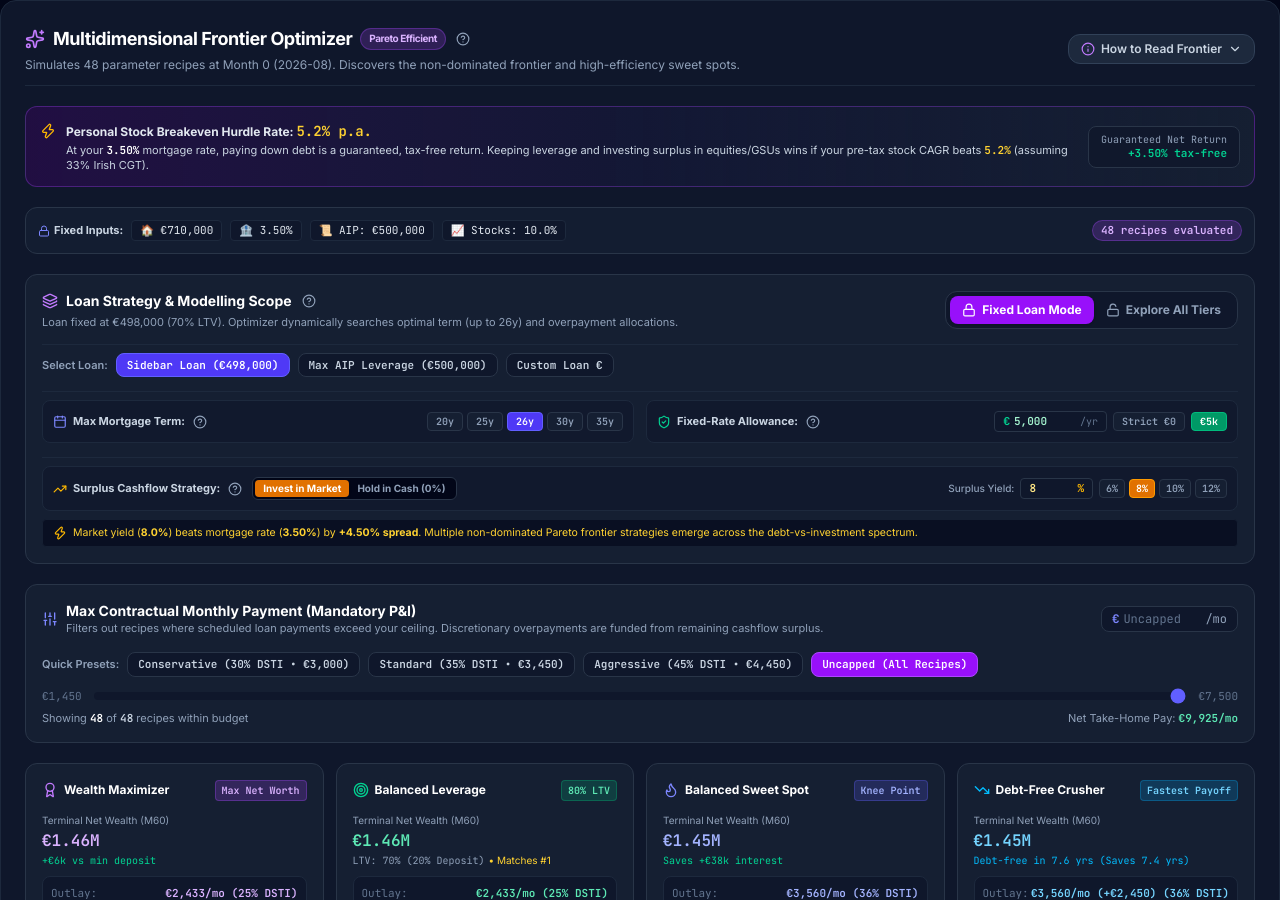
it: FrontierOptimizerCard Component & Custom Loan Reproduction › switches between presets dynamically without state corruption
The image size is (1280, 900).
Click the button "Max AIP Leverage (€500,000)" at (398, 365), box [298, 353, 498, 377]
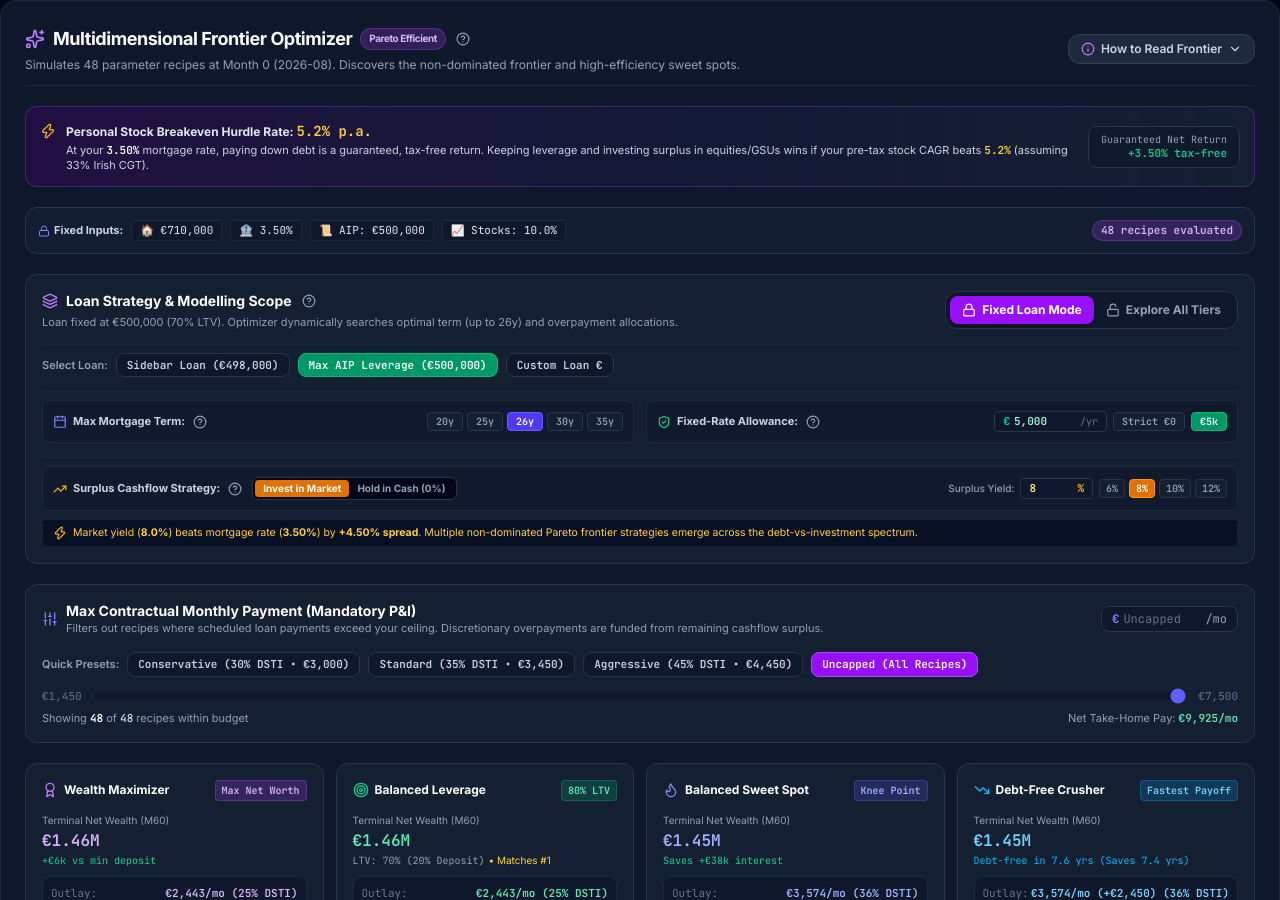
Result: the text "Loan fixed at €500,000 (70% LTV)" is shown at [42, 315, 678, 329]
Click the button "Sidebar Loan (€498,000)" at (203, 365), box [116, 353, 290, 377]
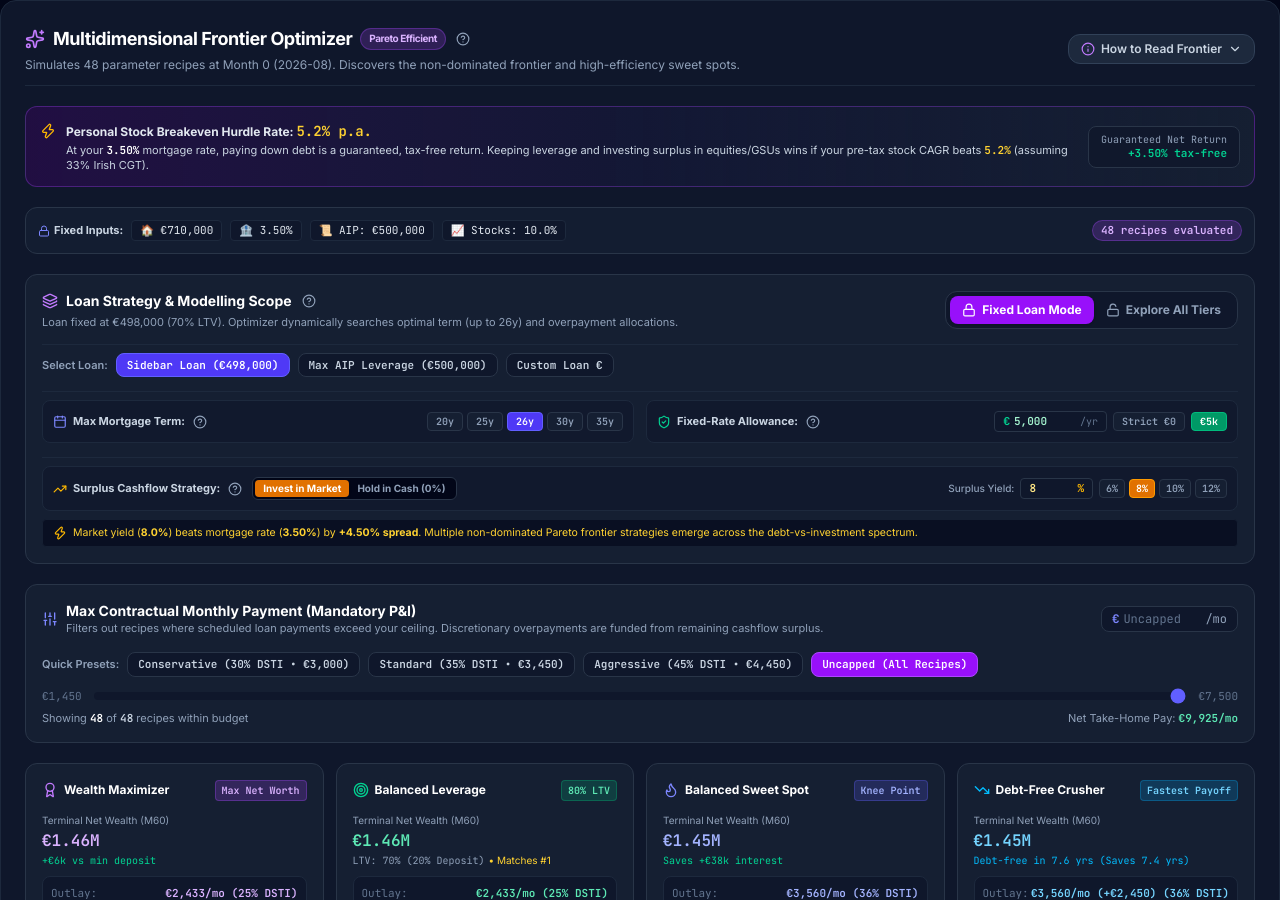
Result: the text "Loan fixed at €498,000 (70% LTV)" is shown at [42, 315, 678, 329]
